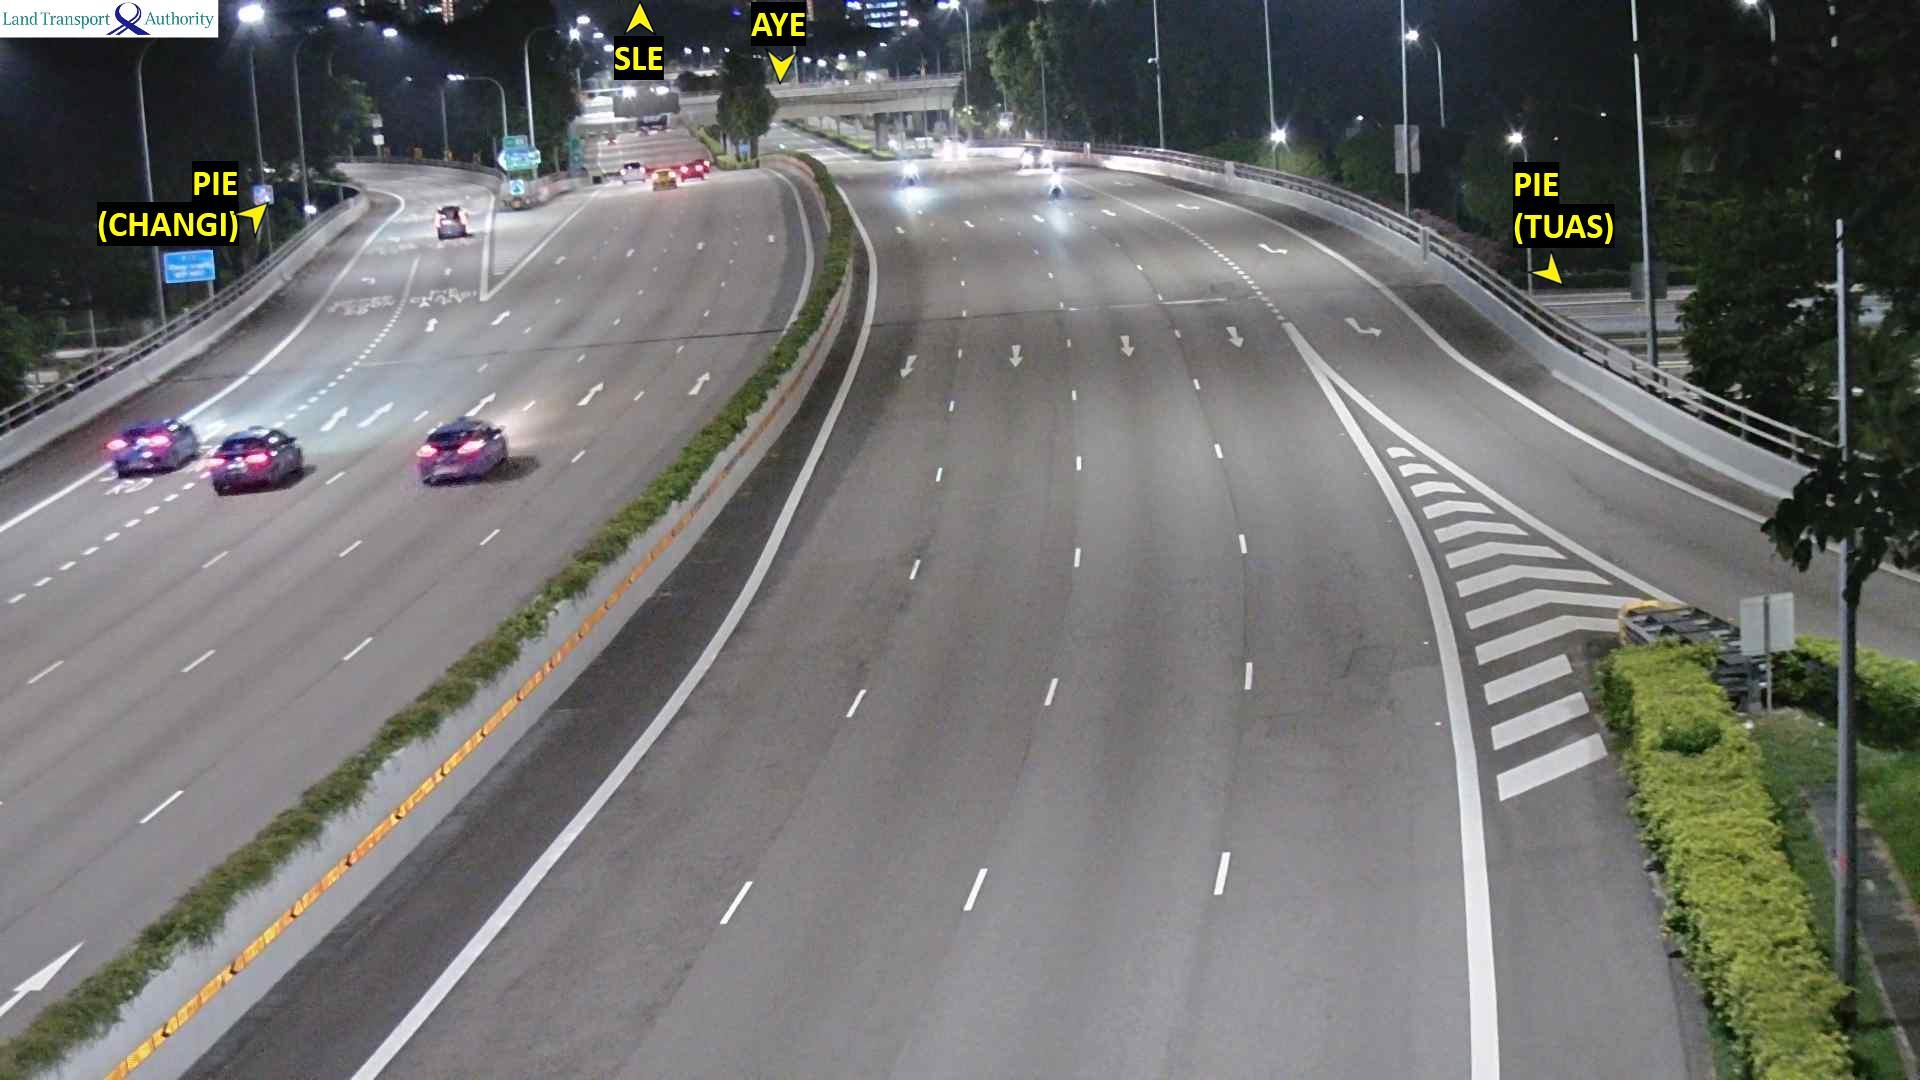incoming: (1021, 144, 1052, 169)
